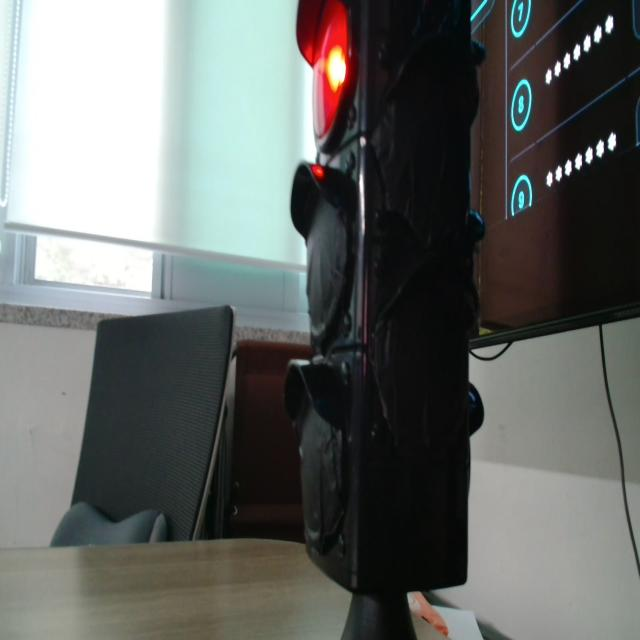red_light: (314, 0, 349, 139), (325, 46, 346, 91), (311, 165, 325, 179)
